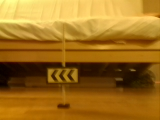left: (46, 67, 80, 83)
